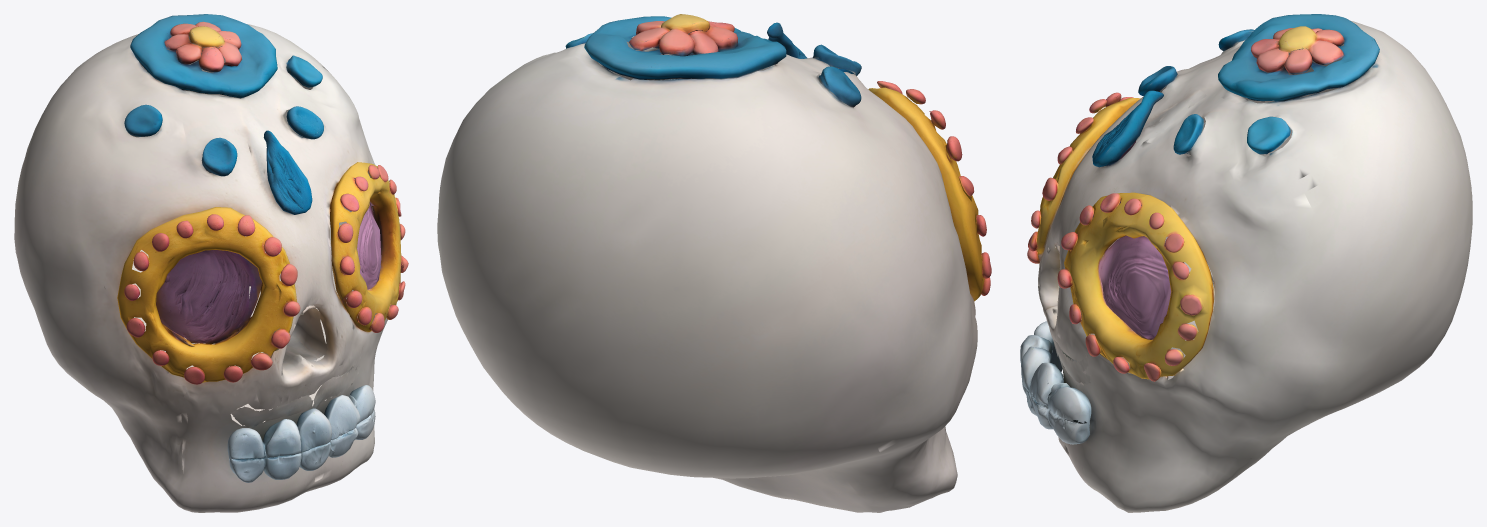
The model's file is Stack 5B - Candy Skul.glb.
3 views of the same model, side by side, from view 1: azimuth 30°, elevation 25°; view 2: azimuth 150°, elevation 25°; view 3: azimuth 270°, elevation 25° (orthographic). The views are drawn at different scales.
Visible parts, largest first — view 1: Candy Skul part 1, Candy Skul part 2, Candy Skul part 24, Candy Skul part 35, Candy Skul part 13, Candy Skul part 55, Candy Skul part 46, Candy Skul part 11, Candy Skul part 58, Candy Skul part 4, Candy Skul part 25, Candy Skul part 15 (+14 smaller); view 2: Candy Skul part 1, Candy Skul part 35, Candy Skul part 2, Candy Skul part 14, Candy Skul part 17, Candy Skul part 10, Candy Skul part 15; view 3: Candy Skul part 1, Candy Skul part 13, Candy Skul part 35, Candy Skul part 11, Candy Skul part 2, Candy Skul part 55, Candy Skul part 14, Candy Skul part 5, Candy Skul part 9, Candy Skul part 56, Candy Skul part 3, Candy Skul part 16 (+4 smaller).
Part boxes in pixels (box(x1,y1,x2,y2)): Candy Skul part 1: box(14, 24, 391, 512); Candy Skul part 2: box(117, 207, 296, 382); Candy Skul part 24: box(156, 250, 261, 344); Candy Skul part 35: box(130, 14, 277, 98); Candy Skul part 13: box(330, 162, 401, 331); Candy Skul part 55: box(263, 130, 312, 214); Candy Skul part 46: box(263, 303, 327, 369); Candy Skul part 11: box(357, 203, 381, 289); Candy Skul part 58: box(263, 419, 301, 458); Candy Skul part 4: box(296, 408, 332, 452); Candy Skul part 25: box(230, 395, 311, 427); Candy Skul part 15: box(201, 137, 237, 176); Candy Skul part 1: box(437, 37, 977, 512); Candy Skul part 35: box(584, 16, 786, 80); Candy Skul part 2: box(868, 87, 984, 301); Candy Skul part 14: box(629, 14, 709, 56); Candy Skul part 17: box(689, 25, 737, 54); Candy Skul part 10: box(818, 66, 861, 107); Candy Skul part 15: box(813, 44, 861, 75); Candy Skul part 1: box(1038, 20, 1472, 512); Candy Skul part 13: box(1064, 192, 1214, 379); Candy Skul part 35: box(1218, 14, 1379, 101); Candy Skul part 11: box(1099, 235, 1189, 339); Candy Skul part 2: box(1036, 97, 1140, 260); Candy Skul part 55: box(1092, 90, 1163, 167); Candy Skul part 14: box(1278, 26, 1344, 64); Candy Skul part 5: box(1048, 383, 1091, 423); Candy Skul part 9: box(1247, 116, 1290, 154); Candy Skul part 56: box(1029, 362, 1063, 405); Candy Skul part 3: box(1048, 410, 1089, 444); Candy Skul part 16: box(1173, 114, 1204, 154).
Size of the model in its own units: 0.8853 by 1 by 0.9224.
Materials: 58 (58 with a texture image).
